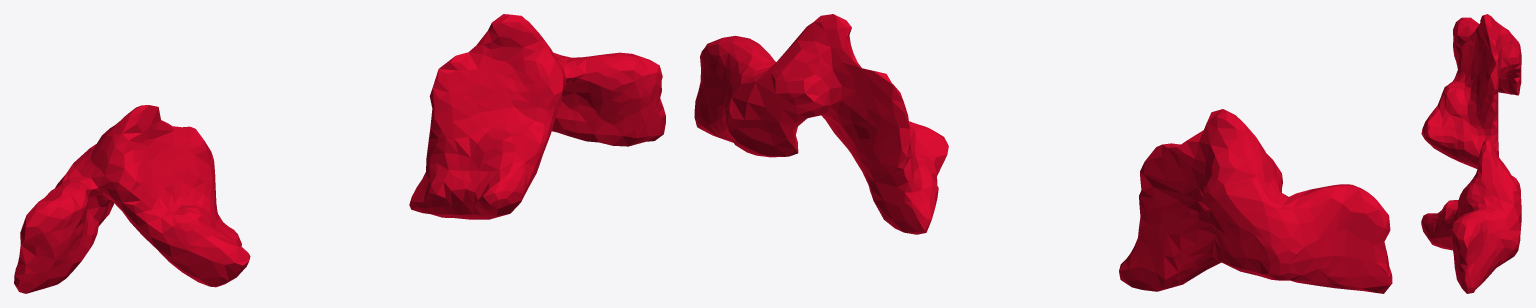
The model's file is 218-V3A-visual area 3A-('1.0000', '0.0000', '0.1882').obj.
The picture shows the model from 3 angles, left to right: view 1: azimuth 30°, elevation 25°; view 2: azimuth 150°, elevation 25°; view 3: azimuth 270°, elevation 25°; orthographic projection. The views are drawn at different scales.
Size of the model in its own units: 258 by 69.98 by 48.45.
